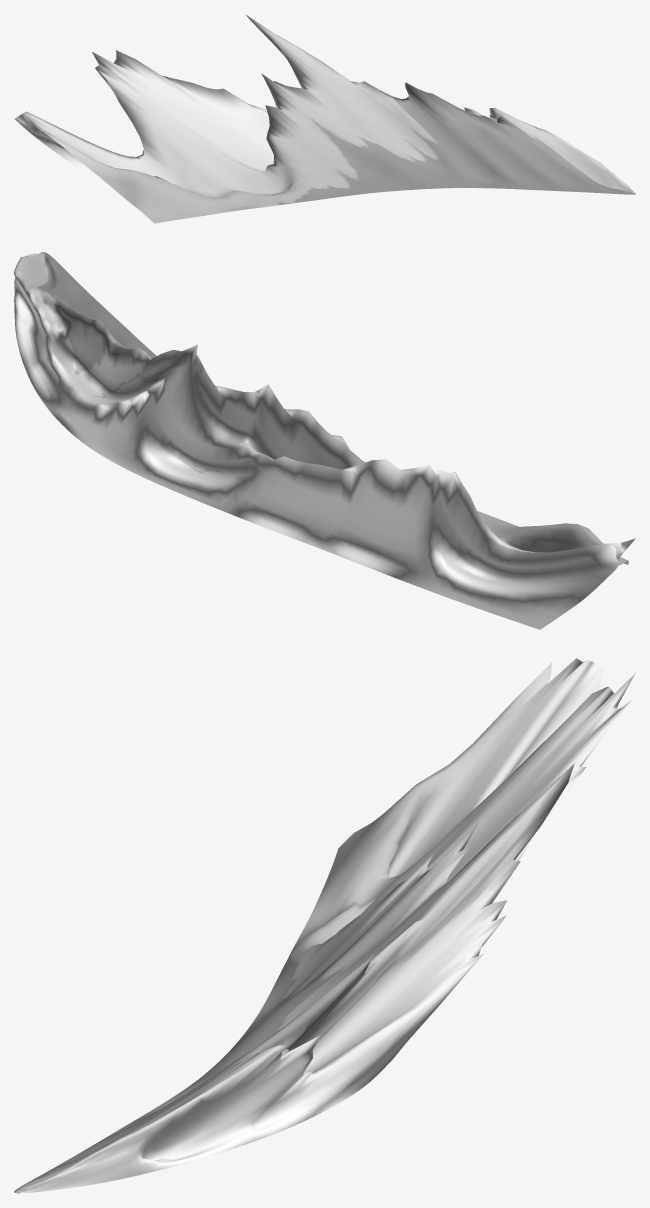
Rendered from DashSmoke_L.fbx.
3 views of the same model, one above another, from view 1: azimuth 30°, elevation 25°; view 2: azimuth 150°, elevation 25°; view 3: azimuth 270°, elevation 25° (orthographic). The views are drawn at different scales.
Visible parts, largest first — view 1: SM_e_cmn_DashSmoke001_L; view 2: SM_e_cmn_DashSmoke001_L; view 3: SM_e_cmn_DashSmoke001_L.
Boxes of the visible parts, <box> form: SM_e_cmn_DashSmoke001_L: <box>14,14,635,223</box>; SM_e_cmn_DashSmoke001_L: <box>14,252,635,629</box>; SM_e_cmn_DashSmoke001_L: <box>14,658,635,1193</box>.
Size of the model in its own units: 187 by 48.31 by 122.
